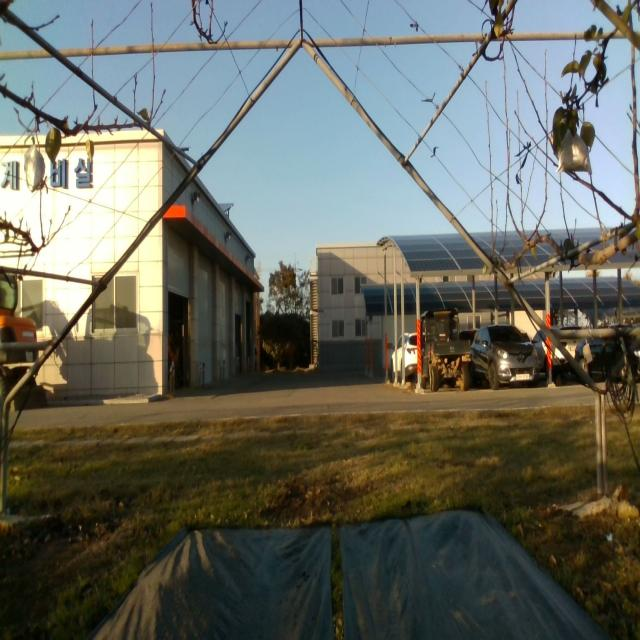pearbags: (555, 126, 593, 177), (23, 135, 46, 193)
